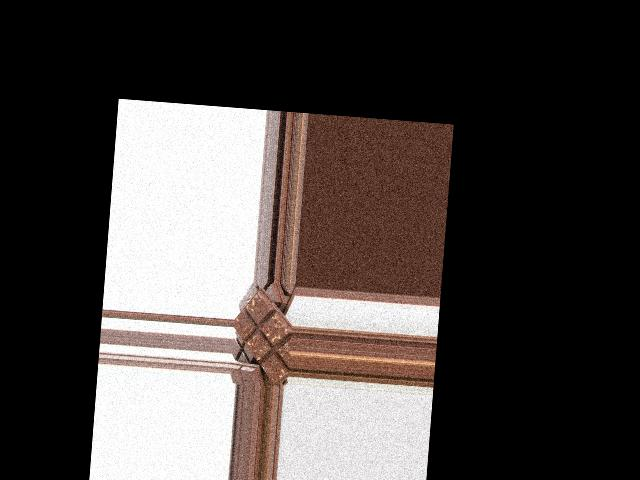chocolate: (230, 292, 295, 385)
